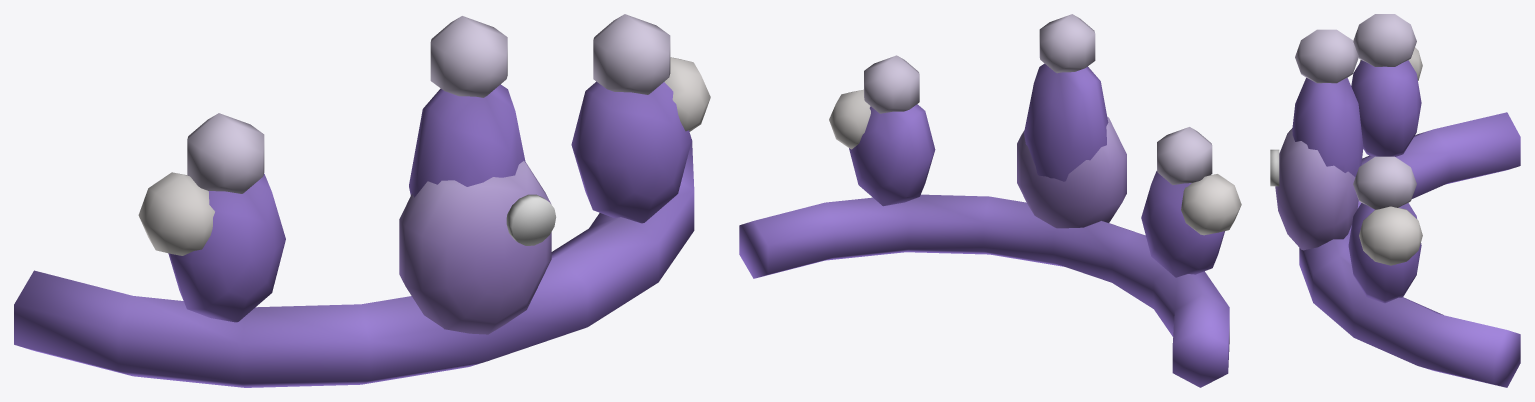
The model's file is acc-head-epic.glb.
The picture shows the model from 3 angles, left to right: view 1: azimuth 30°, elevation 25°; view 2: azimuth 150°, elevation 25°; view 3: azimuth 270°, elevation 25°; orthographic projection. The views are drawn at different scales.
Visible parts, largest first — view 1: acc-head-epic; view 2: acc-head-epic; view 3: acc-head-epic.
Boxes of the visible parts, x1,y1,x2,y2 form: acc-head-epic: [14, 14, 710, 387]; acc-head-epic: [739, 14, 1241, 387]; acc-head-epic: [1270, 14, 1520, 387].
Bounding box in the file's own units: 0.1599 × 0.078 × 0.071.
